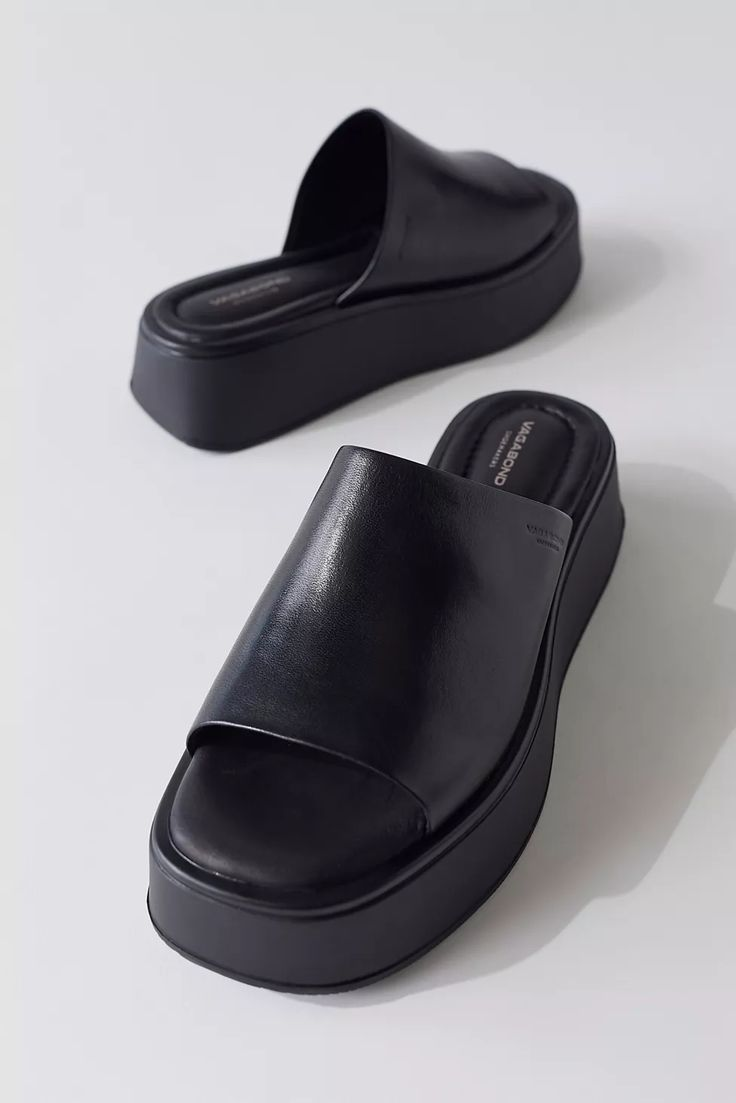cuero: (131, 108, 619, 916)
